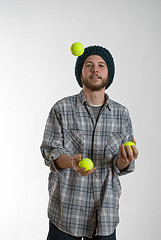tennis ball: (77, 156, 94, 172), (121, 140, 138, 156), (70, 42, 86, 57)
